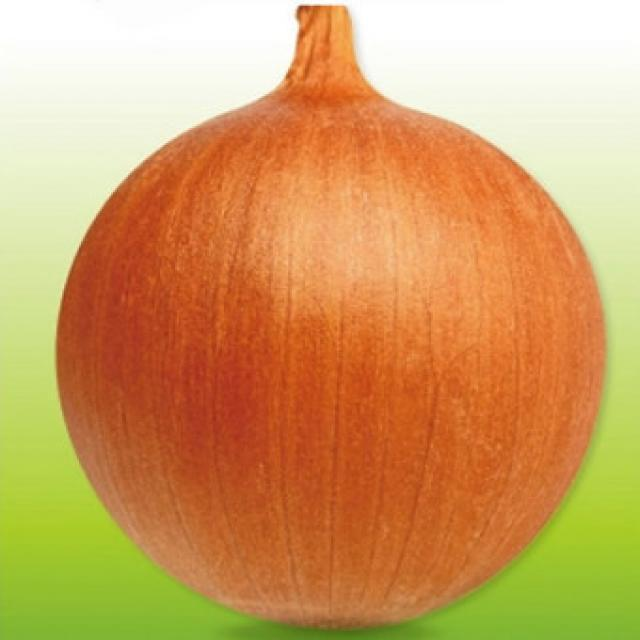Onion: (57, 6, 605, 628)
